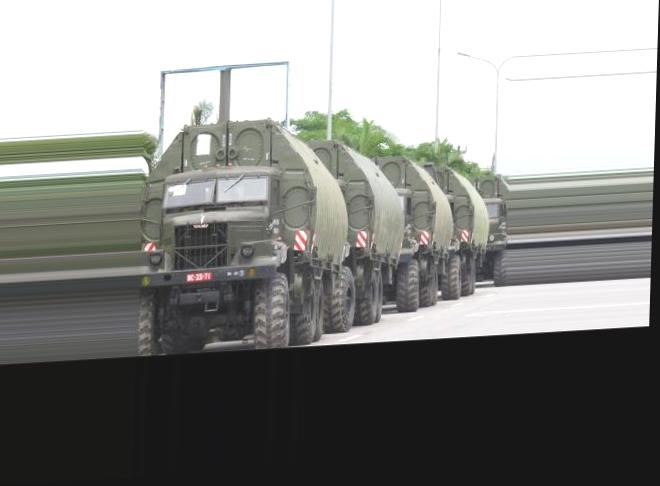License_Plate: (184, 272, 213, 285)
